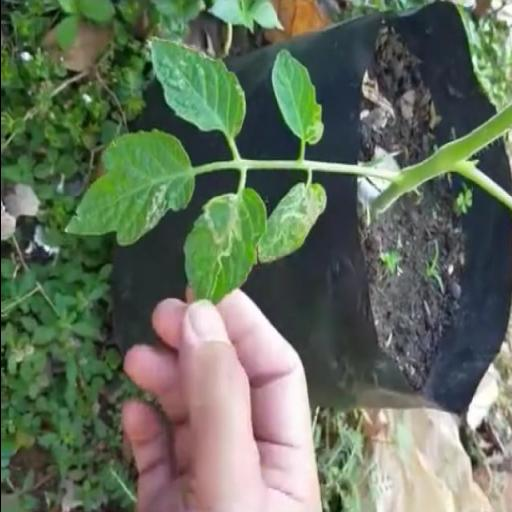disease_tomato: (60, 130, 196, 248), (178, 186, 270, 310), (254, 180, 328, 266), (270, 49, 324, 144)
